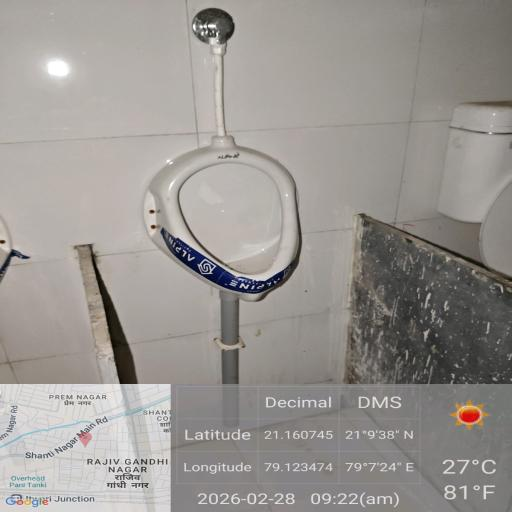clean_floor: (0, 0, 512, 153), (4, 171, 141, 370)
clean_urinal: (160, 154, 312, 292)
partial_dirty_floor: (324, 192, 505, 376)
